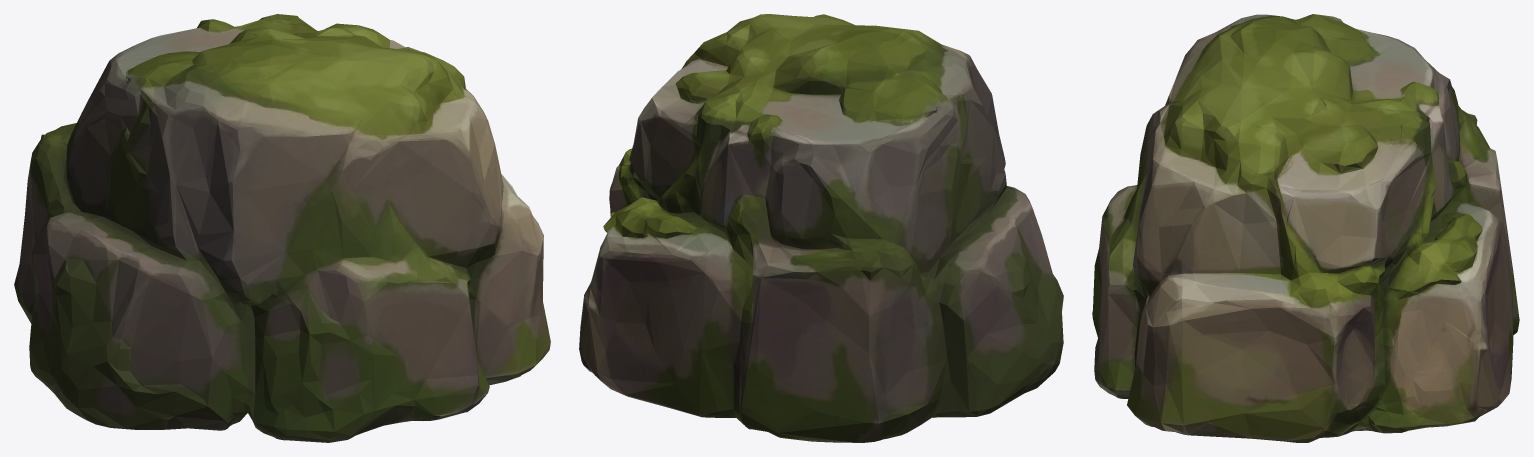
The model's file is rock.glb.
3 views of the same model, side by side, from view 1: azimuth 30°, elevation 25°; view 2: azimuth 150°, elevation 25°; view 3: azimuth 270°, elevation 25° (orthographic). The views are drawn at different scales.
Parts seen in each view (by area): view 1: world; view 2: world; view 3: world.
Boxes of the visible parts, <box> form: world: <box>14,14,550,442</box>; world: <box>579,14,1063,442</box>; world: <box>1092,14,1519,442</box>.
Bounding box in the file's own units: 0.9979 × 0.7031 × 0.9044.
1 material, 1 textured.
